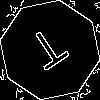T: (25, 25, 76, 79)
